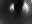person: (23, 2, 31, 18), (9, 3, 16, 15)
